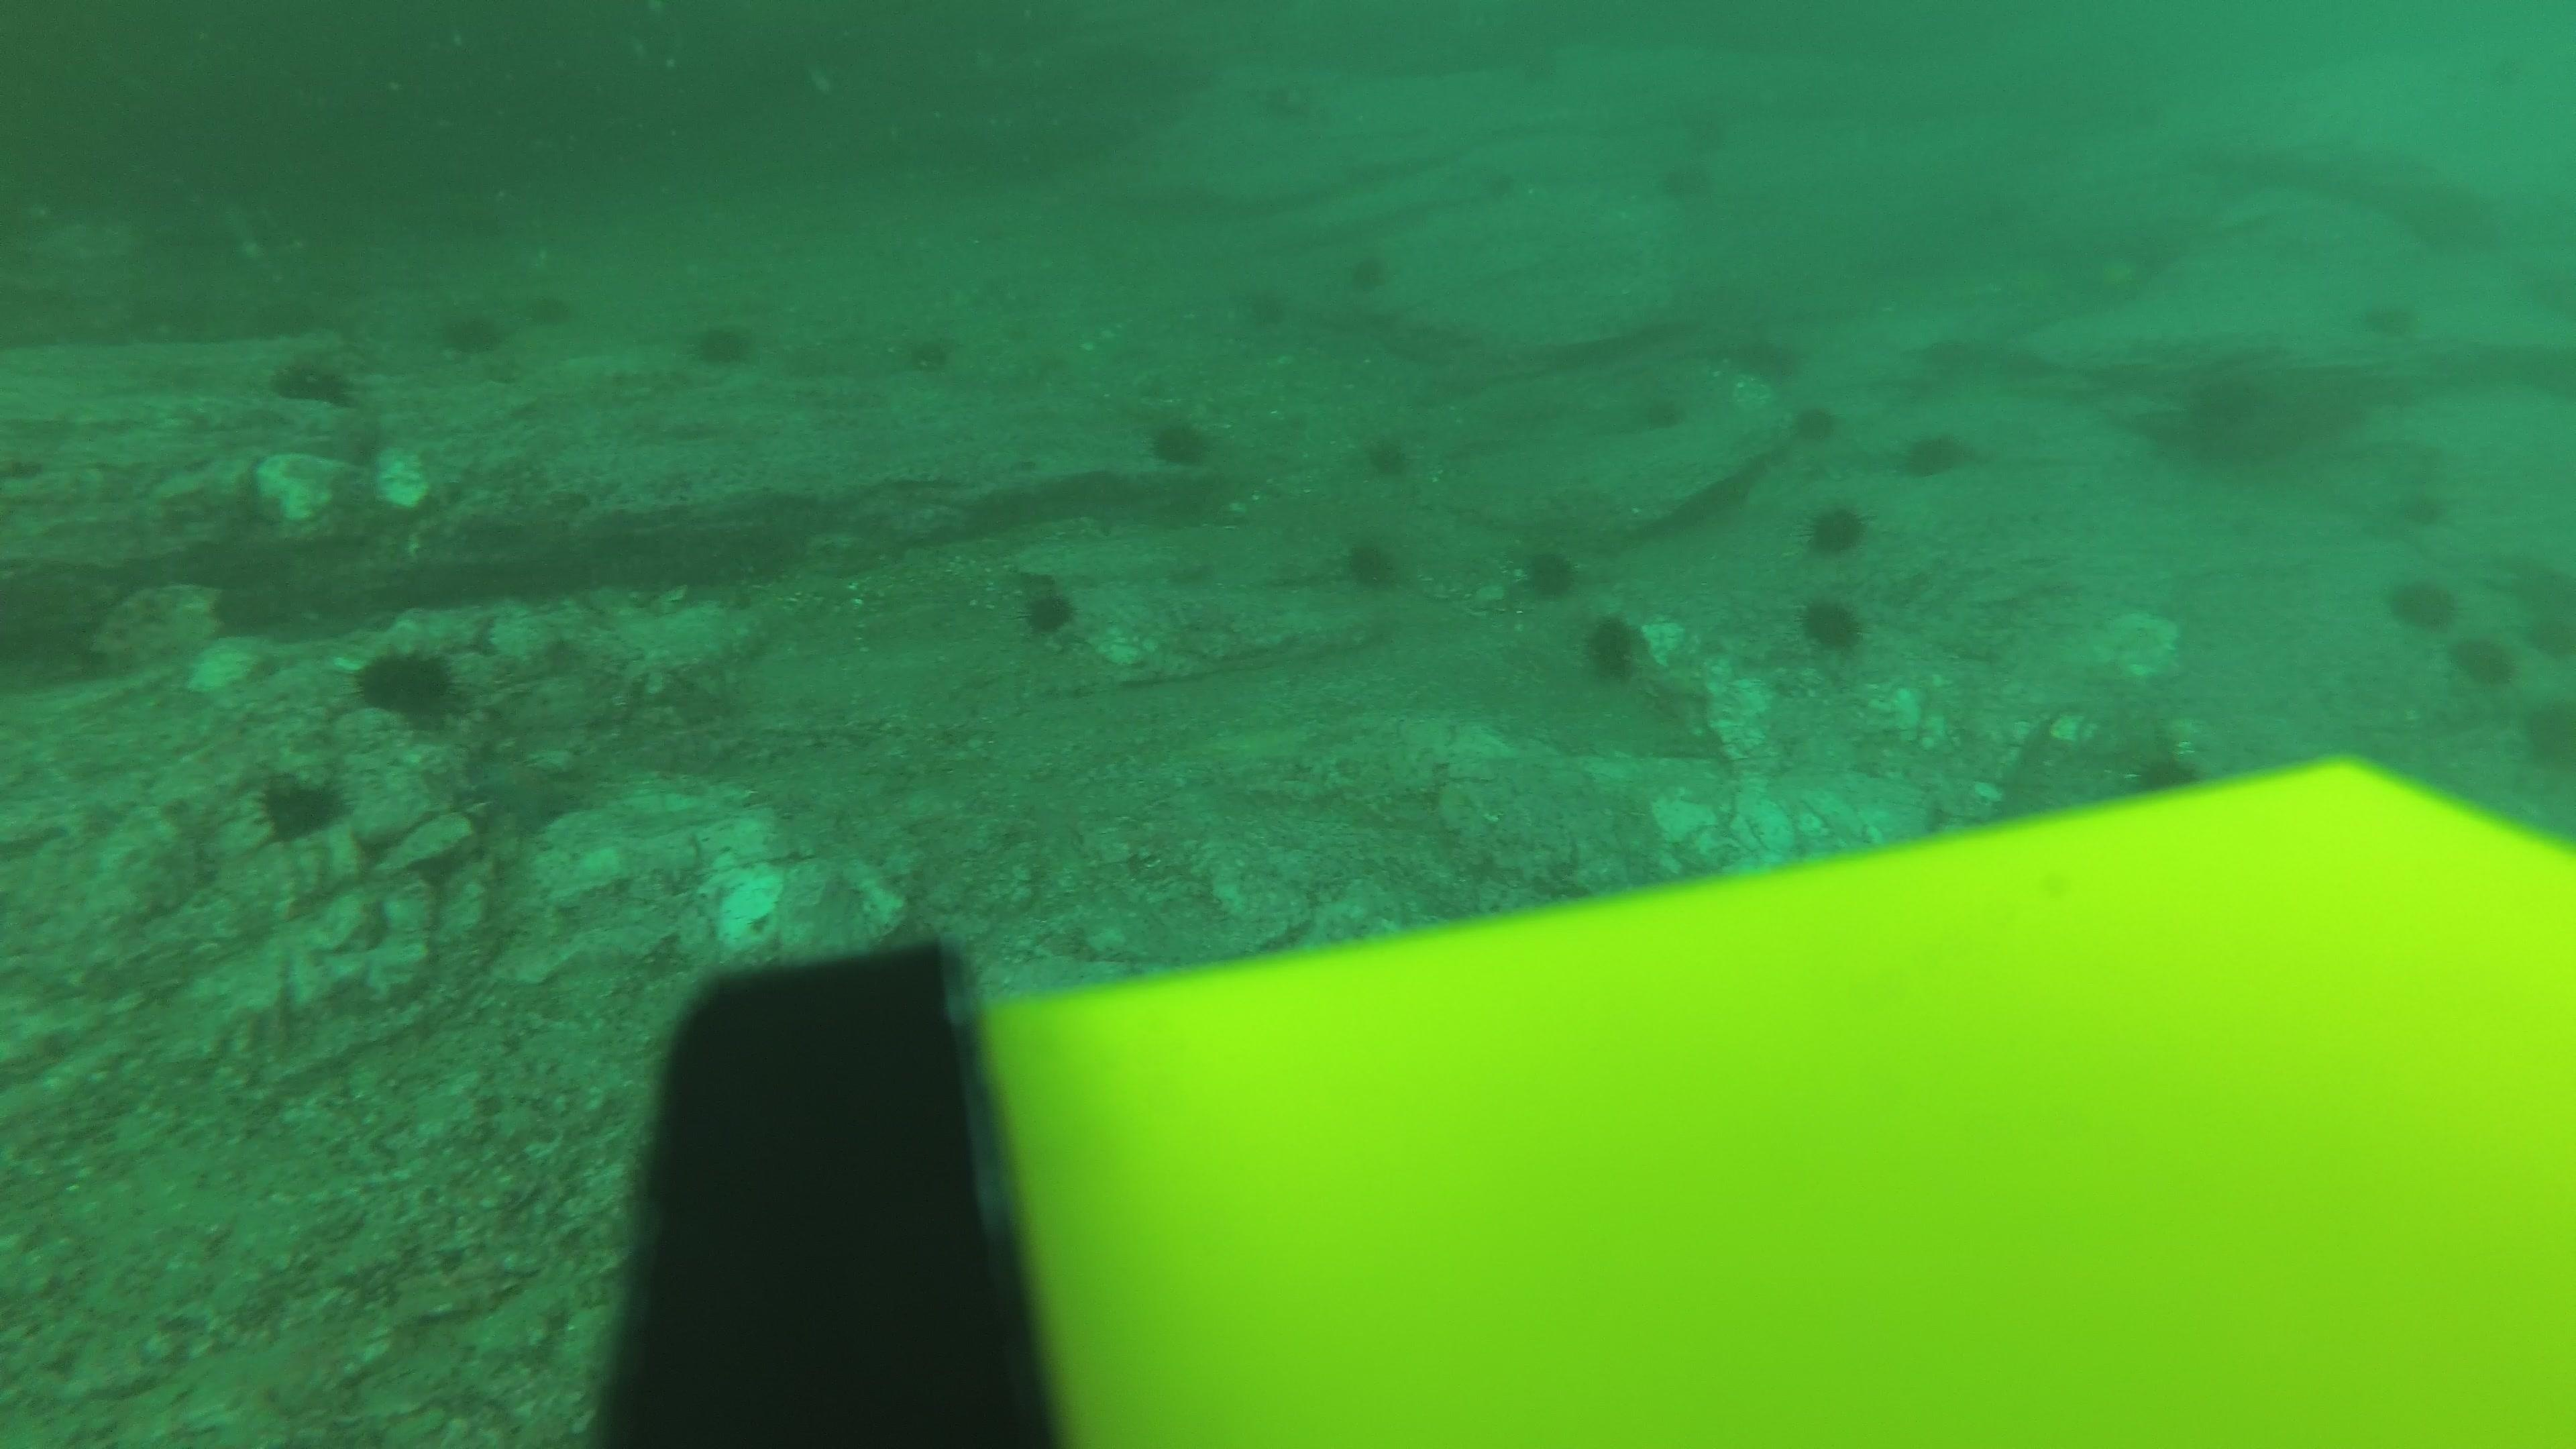echinus: (350, 637, 467, 727), (249, 763, 350, 847), (2339, 283, 2424, 356), (2381, 471, 2465, 543), (2185, 357, 2268, 428), (2512, 690, 2576, 780), (267, 347, 357, 409), (1578, 609, 1651, 683), (2381, 568, 2461, 635), (1010, 571, 1085, 642), (685, 310, 761, 373), (1143, 409, 1217, 472), (1730, 324, 1805, 387), (1332, 241, 1407, 304), (1654, 147, 1729, 211), (1677, 111, 1752, 175), (1507, 32, 1582, 96), (1470, 150, 1545, 214), (1228, 271, 1302, 334), (502, 274, 577, 338), (433, 299, 510, 361), (1513, 538, 1583, 603), (1801, 495, 1870, 561), (1798, 591, 1867, 656), (1338, 531, 1407, 596), (2447, 630, 2519, 692), (1898, 423, 1973, 481), (897, 322, 961, 379), (1359, 426, 1415, 483), (1789, 396, 1842, 448)
starfish: (464, 750, 586, 835)
